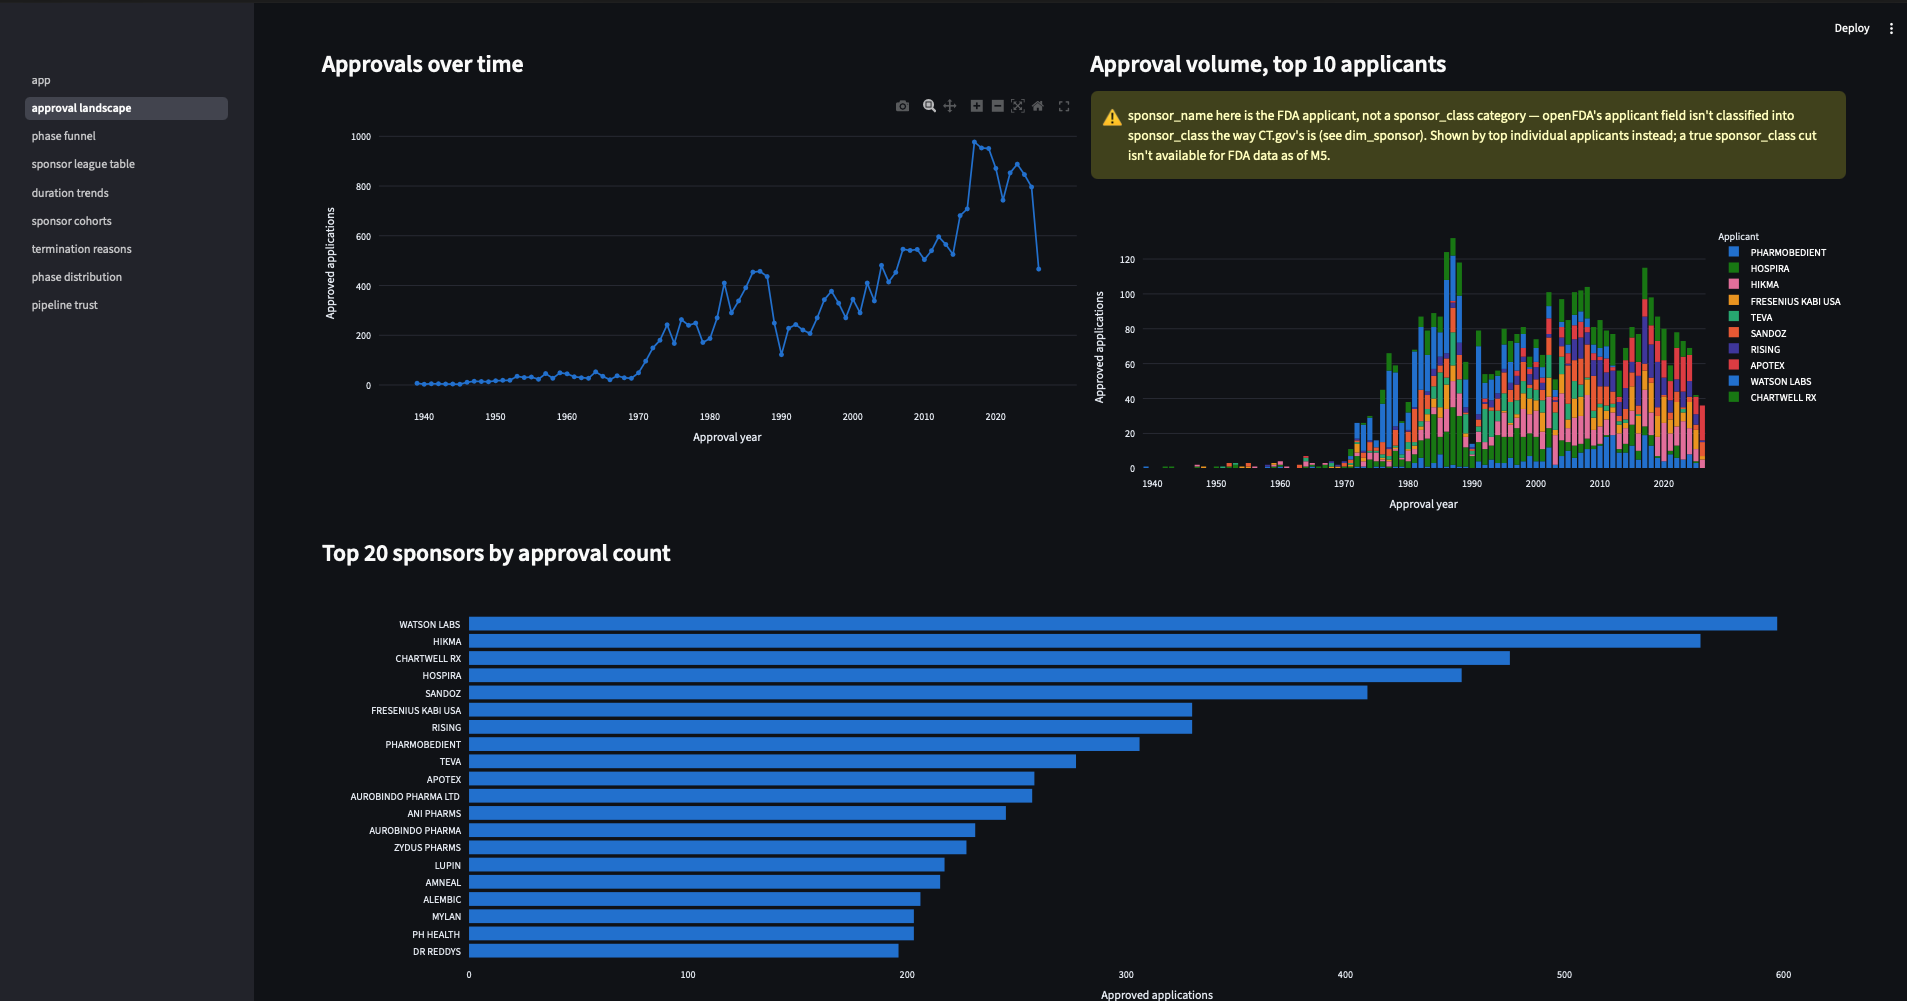

What the dashboard file says about the page in this screenshot:
{"tool":"tableau","page":{"name":"1 - Industry Overview","canvas":[1600,900],"ordinal":0},"visuals":[{"type":"text","box":[0,0,1600,54]},{"type":"worksheet","title":"Approvals Over Time","mark":"Automatic","box":[0,54,960,396]},{"type":"worksheet","title":"Top Applicants Over Time","mark":"Automatic","box":[960,54,640,396]},{"type":"worksheet","title":"Top Sponsors by Approvals","mark":"Automatic","box":[0,450,1600,450]}]}

Visuals, with their boxes on the page's 1600x900 design canvas (x1, y1, x2, y2). These are canvas units, not pixel positions in the 1907x1001 screenshot, which may show the page scaled, cropped or inside an application window:
text: (0, 0, 1600, 54)
"Approvals Over Time" worksheet: (0, 54, 960, 450)
"Top Applicants Over Time" worksheet: (960, 54, 1600, 450)
"Top Sponsors by Approvals" worksheet: (0, 450, 1600, 900)
